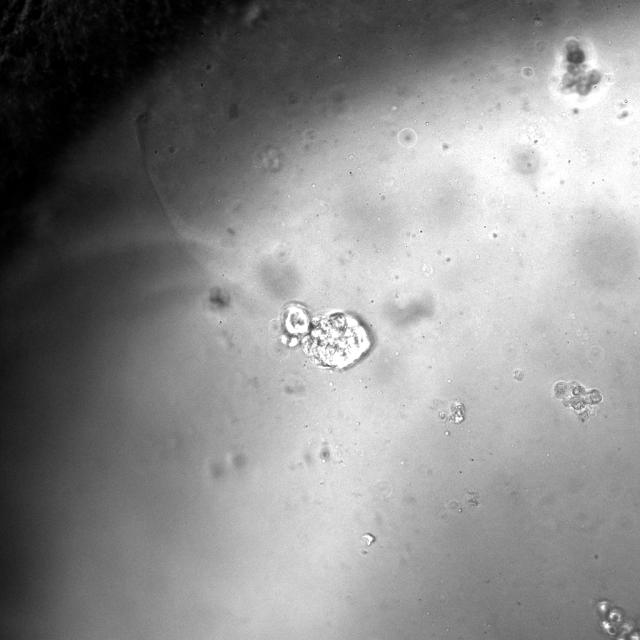organoid: (281, 303, 371, 369), (560, 39, 602, 95), (553, 381, 602, 423), (592, 596, 639, 639), (439, 400, 465, 423), (361, 532, 376, 545), (513, 368, 524, 381)
